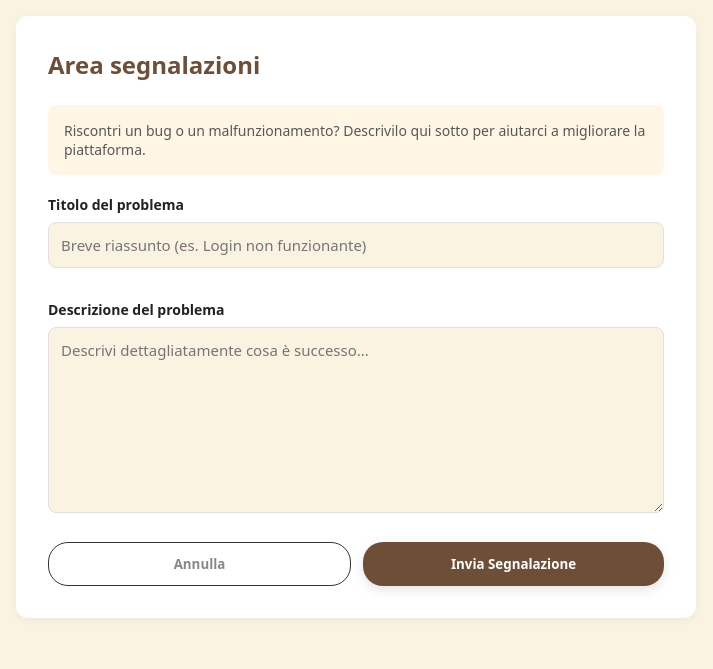
ReportProblem Component › submits report successfully
Type "Bug" into the field with placeholder "Breve riassunto (es. Login non funzionante)" at point(356, 245), box [48,222,664,268]
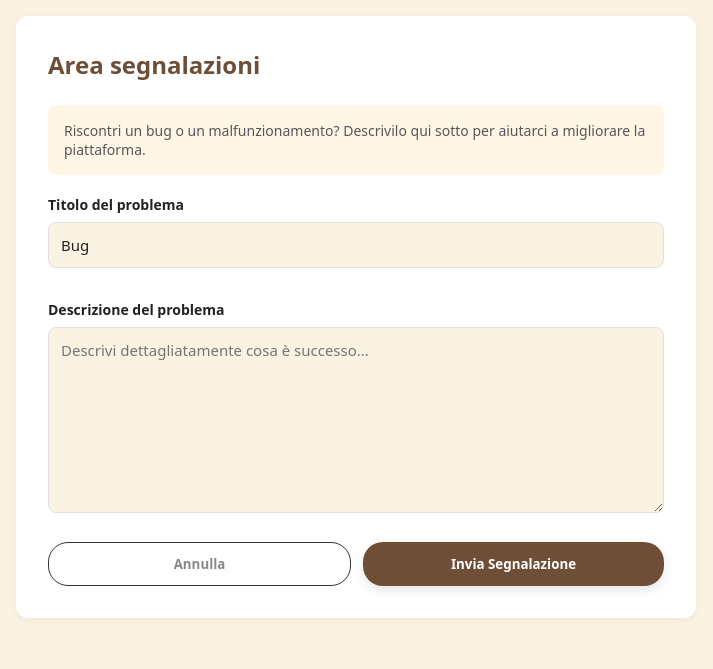
Type "Something is broken" into the text box with placeholder "Descrivi dettagliatamente cosa è successo..." at point(356, 420), box [48,327,664,513]
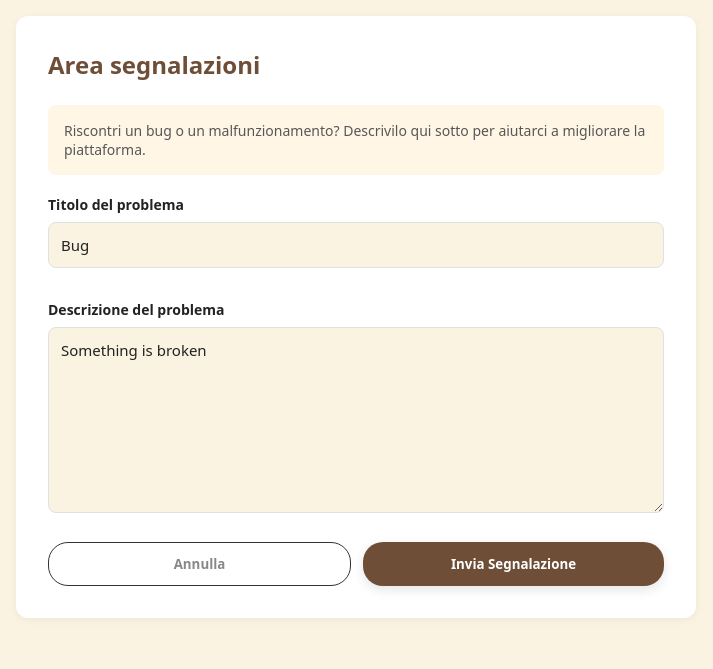
Click the button "Invia Segnalazione" at point(514, 564), box [363,542,664,586]
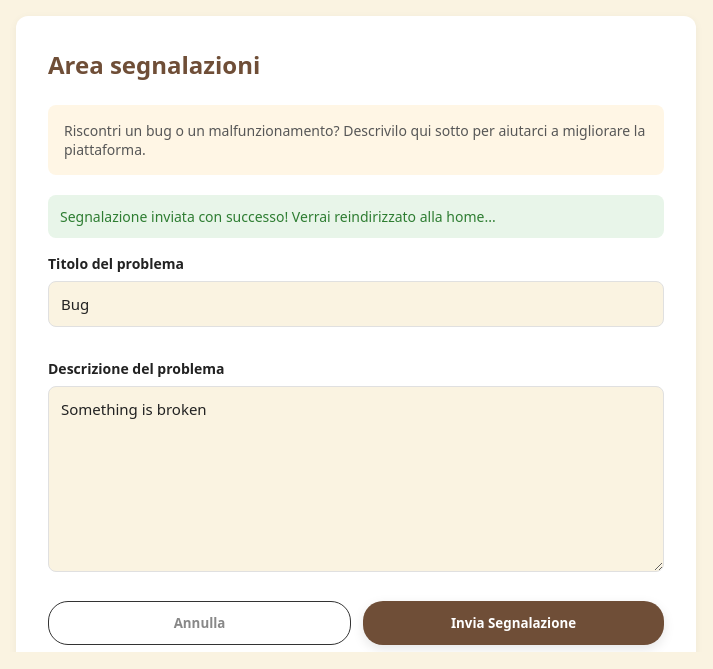
Expected: the text "Segnalazione inviata con successo" is shown, [60,207,496,226]
